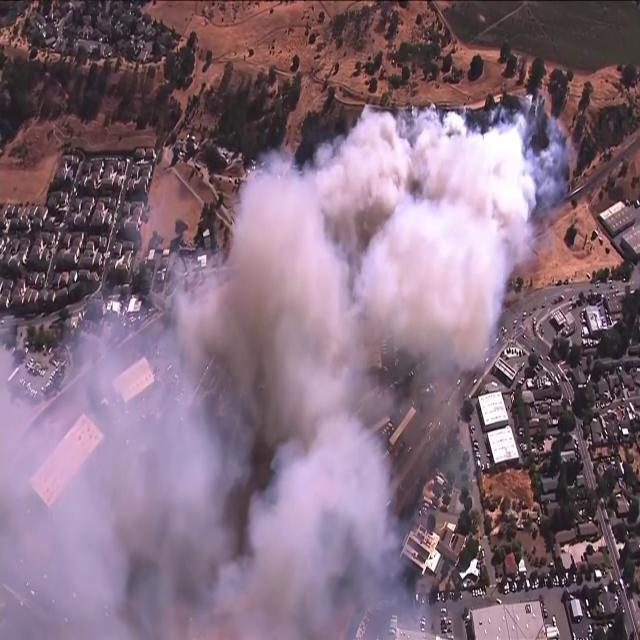Smoke: (4, 101, 546, 634)
